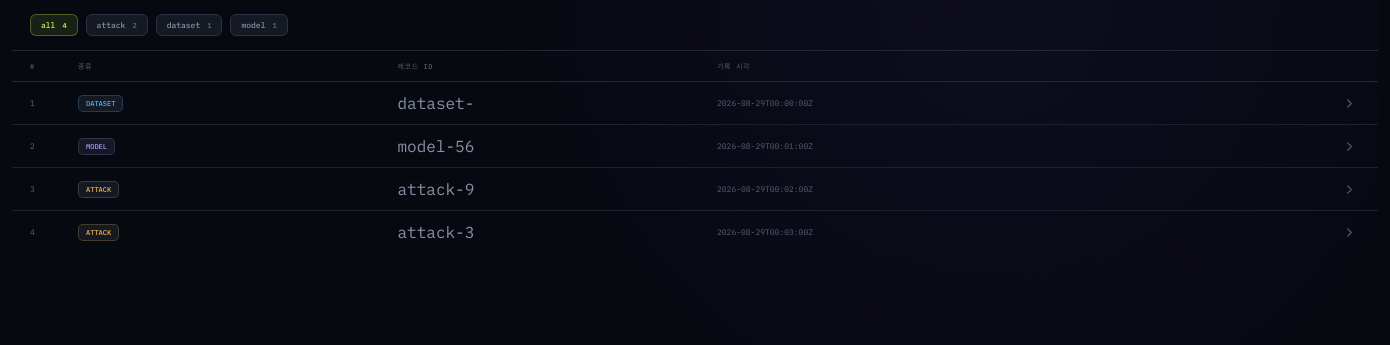
it: JournalTable › expands one entry to its raw JSON and collapses it again
The image size is (1390, 345).
Click the button "1 dataset dataset- 2026-08-29T00:00:00Z" at (101, 103), box [12,82,1378,124]
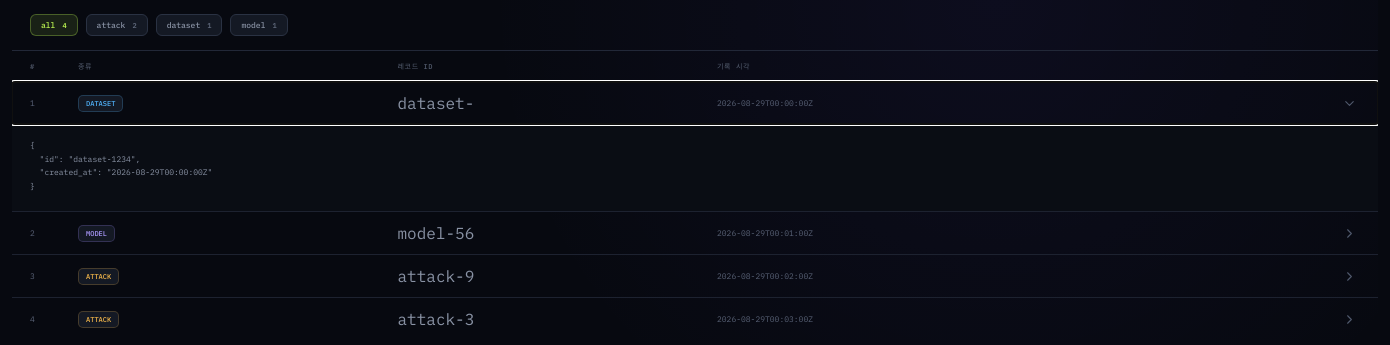
Expected: the text "\"id\": \"dataset-1234\"" is shown, [30,140,212,191]
Click the button "1 dataset dataset- 2026-08-29T00:00:00Z" at (101, 103), box [12,82,1378,124]
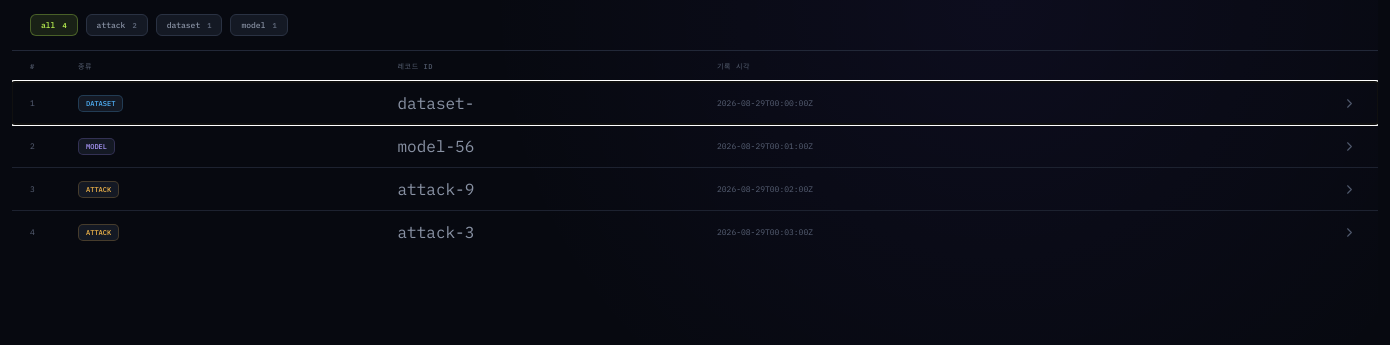
Expected: the text "\"id\": \"dataset-1234\"" is gone
